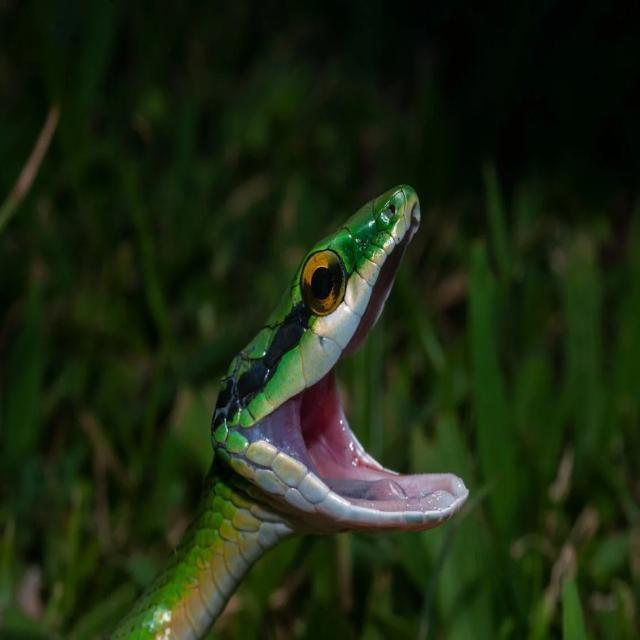Snake: (78, 169, 481, 640)
